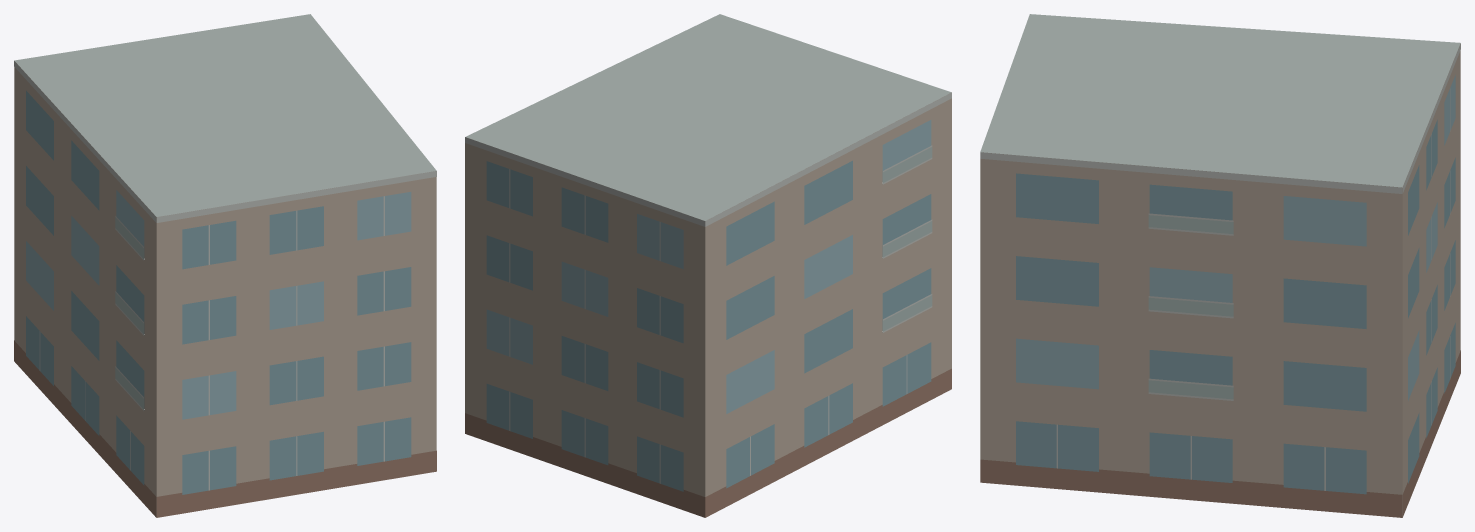
File: survey-upis-32919857.glb
3 views of the same model, side by side, from view 1: azimuth 30°, elevation 25°; view 2: azimuth 150°, elevation 25°; view 3: azimuth 270°, elevation 25° (orthographic). The views are drawn at different scales.
Parts seen in each view (by area): view 1: survey-upis-32919857.tmp; view 2: survey-upis-32919857.tmp; view 3: survey-upis-32919857.tmp.
Boxes of the visible parts, left/top/right/bottom form: survey-upis-32919857.tmp: left=14, top=14, right=436, bottom=517; survey-upis-32919857.tmp: left=465, top=14, right=951, bottom=517; survey-upis-32919857.tmp: left=980, top=14, right=1460, bottom=517.
Size of the model in its own units: 13.75 by 12.2 by 16.1.
